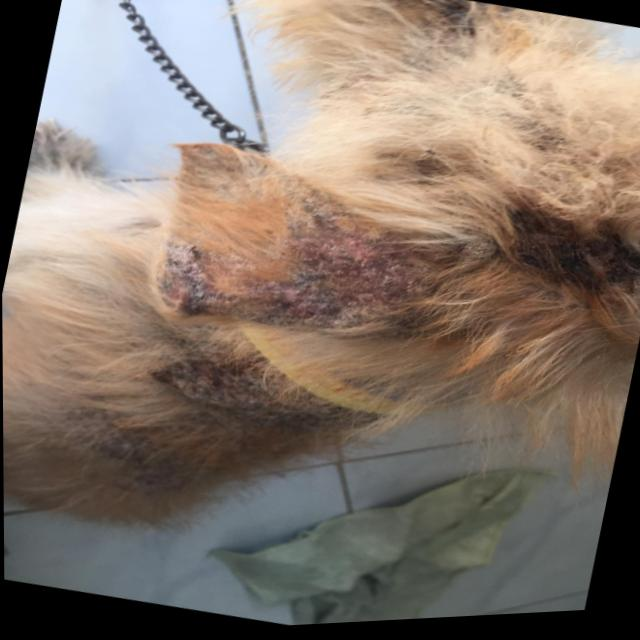demodicosis: (182, 192, 464, 372), (503, 201, 640, 303)
